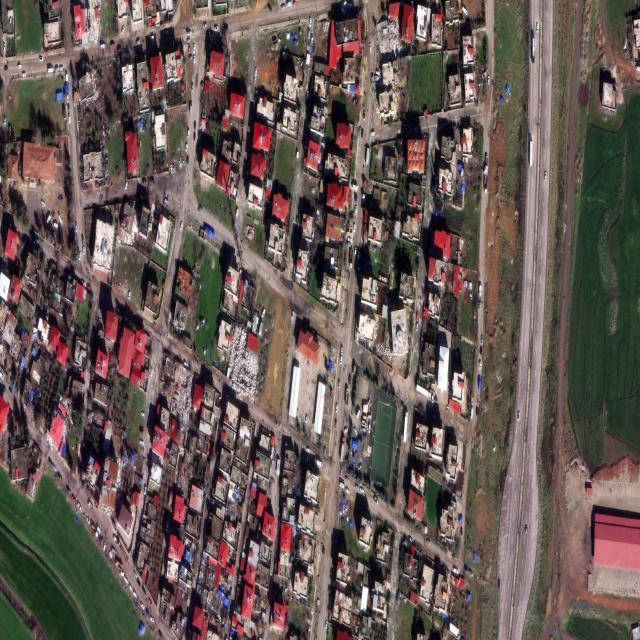Rubble: (231, 330, 263, 406), (376, 13, 400, 62)
